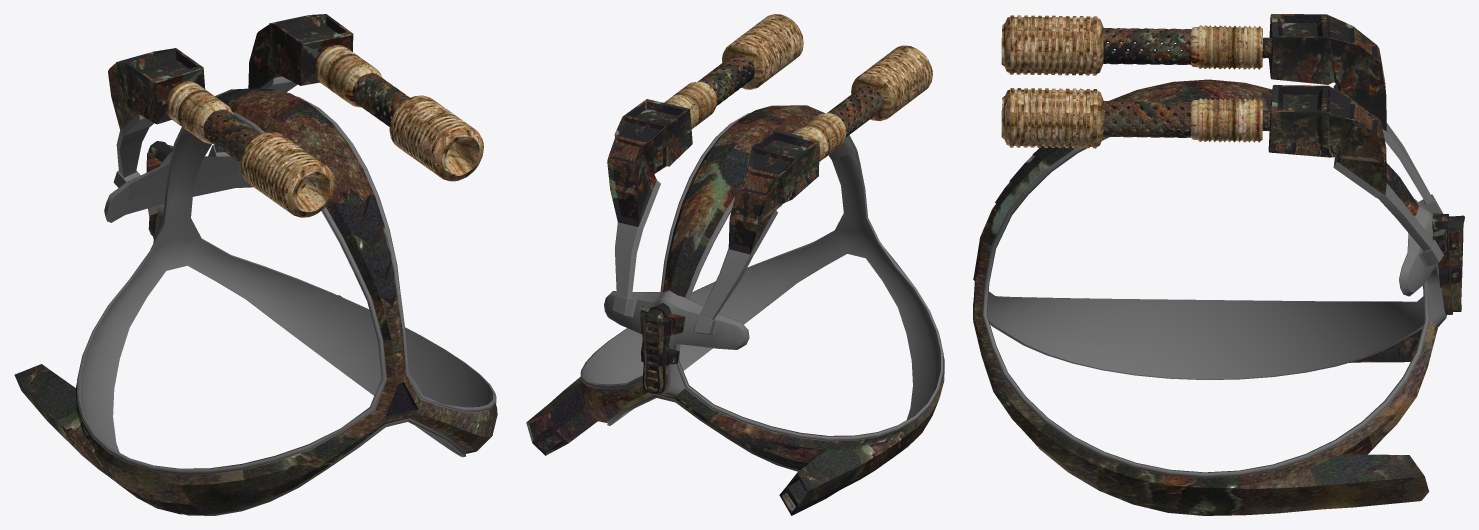
File: _newAntiqueTextured.fbx
3 views of the same model, side by side, from view 1: azimuth 30°, elevation 25°; view 2: azimuth 150°, elevation 25°; view 3: azimuth 270°, elevation 25° (orthographic). The views are drawn at different scales.
Visible parts, largest first — view 1: antique_rig; view 2: antique_rig; view 3: antique_rig.
Part boxes in pixels (box(x1,y1,x2,y2)): antique_rig: box(14, 14, 497, 515); antique_rig: box(526, 14, 944, 515); antique_rig: box(973, 14, 1464, 515).
Size of the model in its own units: 14.53 by 15.27 by 17.31.
Materials: 4 (3 with a texture image).
